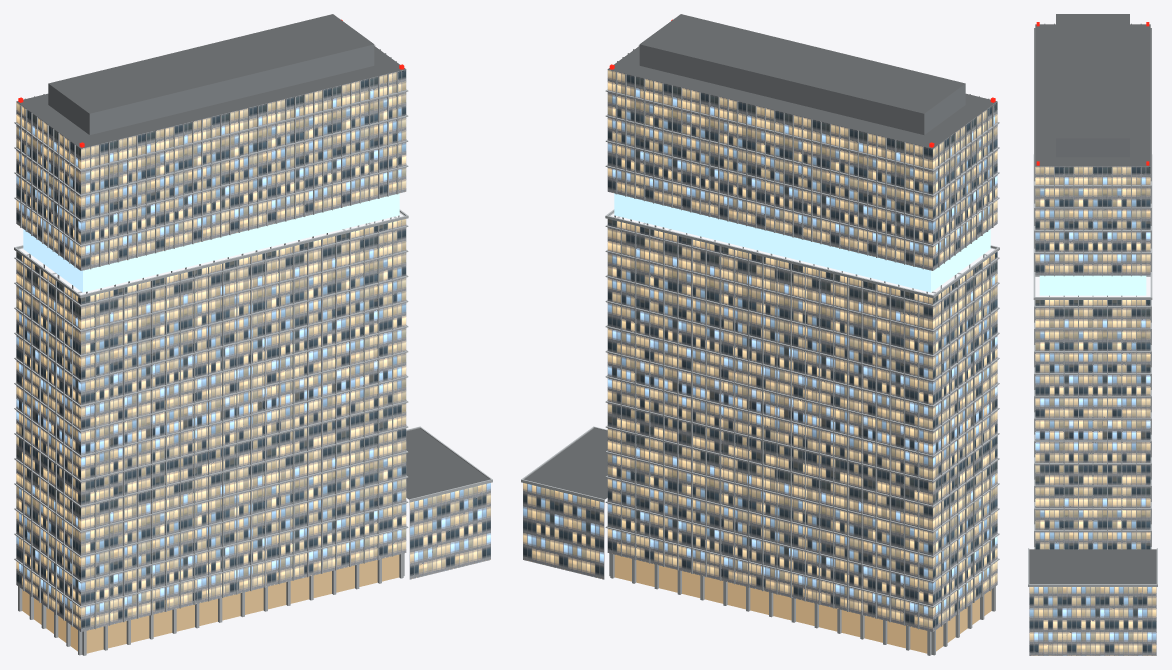
File: tokyo_shiodome_building.glb
The picture shows the model from 3 angles, left to right: view 1: azimuth 30°, elevation 25°; view 2: azimuth 150°, elevation 25°; view 3: azimuth 270°, elevation 25°; orthographic projection. The views are drawn at different scales.
Visible parts, largest first — view 1: tokyo_shiodome_building; view 2: tokyo_shiodome_building; view 3: tokyo_shiodome_building.
Part boxes in pixels (x1,y1,x2,y2): tokyo_shiodome_building: (14, 14, 492, 655); tokyo_shiodome_building: (521, 14, 999, 655); tokyo_shiodome_building: (1028, 14, 1157, 655).
Bounding box in the file's own units: 140 × 173 × 43.
2 materials, 2 textured.
